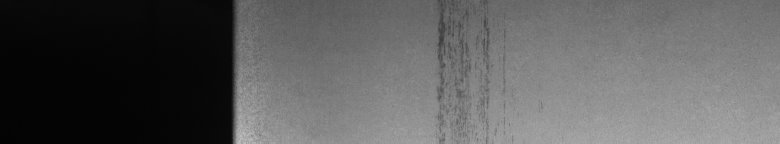ka: (432, 4, 510, 136)
